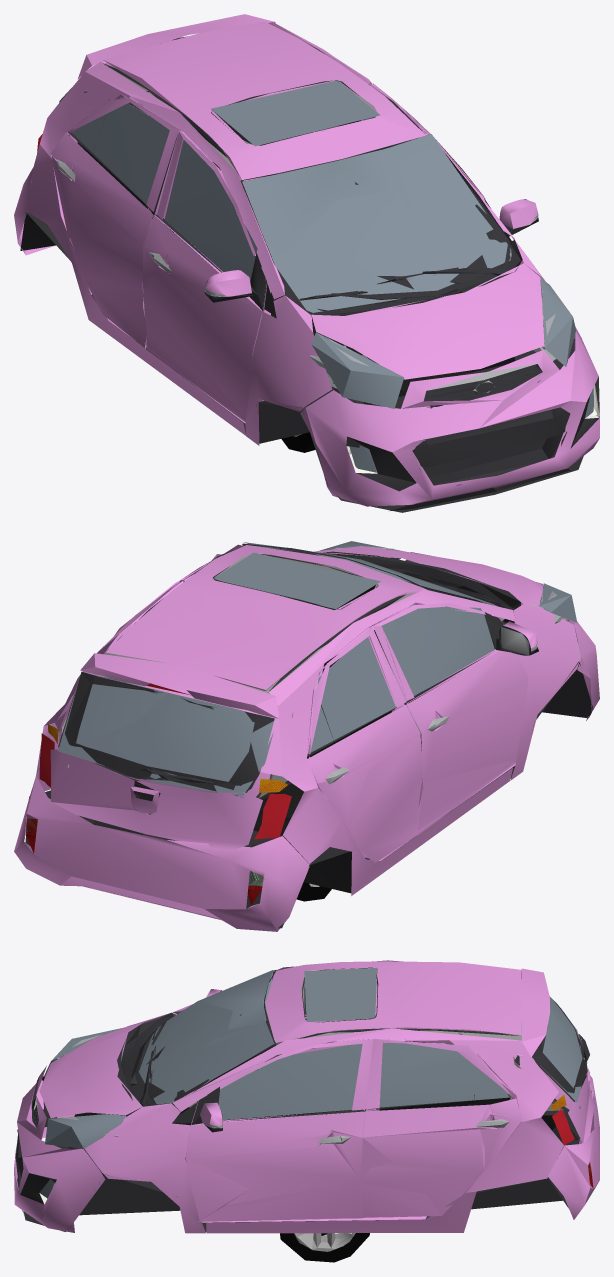
The model's file is kia_lo.glb.
3 views of the same model, one above another, from view 1: azimuth 30°, elevation 25°; view 2: azimuth 150°, elevation 25°; view 3: azimuth 270°, elevation 25° (orthographic). The views are drawn at different scales.
Parts seen in each view (by area): view 1: body; view 2: body; view 3: body, wheel.
Boxes of the visible parts, x1,y1,x2,y2 form: body: (14, 14, 599, 512); body: (14, 541, 599, 931); body: (14, 960, 599, 1233); wheel: (280, 1233, 369, 1262).
Size of the model in its own units: 1.88 by 1.79 by 3.57.
11 materials, 1 textured.
